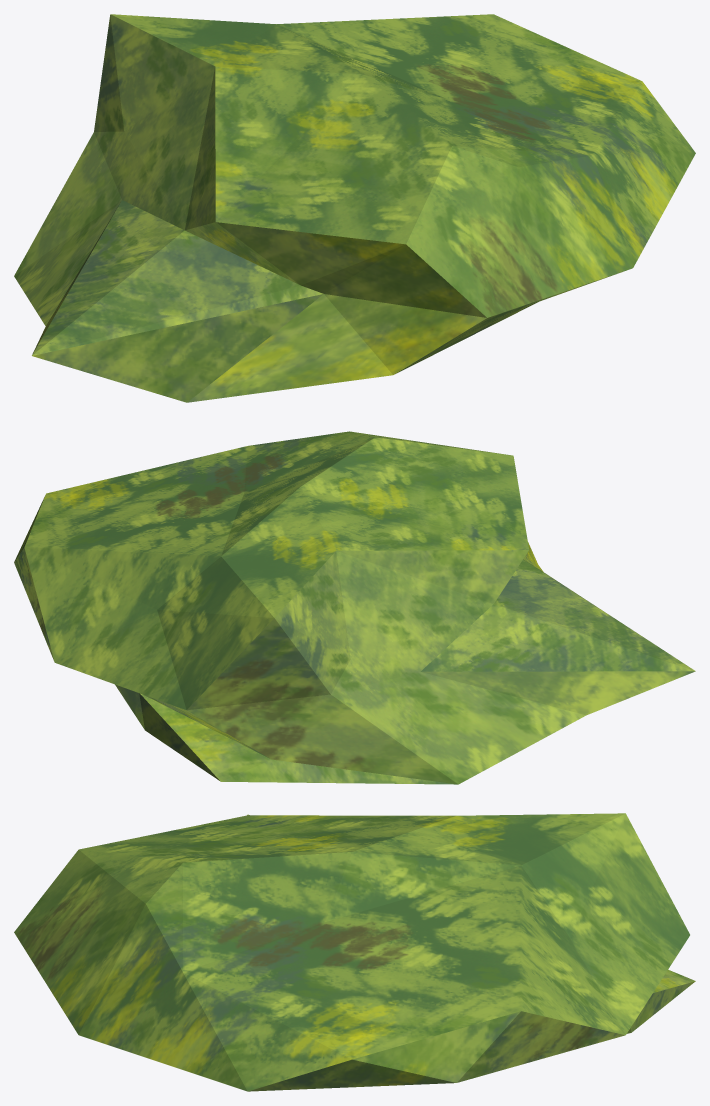
The model's file is foliage2.glb.
The picture shows the model from 3 angles, top to bottom: view 1: azimuth 30°, elevation 25°; view 2: azimuth 150°, elevation 25°; view 3: azimuth 270°, elevation 25°; orthographic projection. The views are drawn at different scales.
Visible parts, largest first — view 1: foliage2; view 2: foliage2; view 3: foliage2.
Boxes of the visible parts, box(x1,y1,x2,y2) form: foliage2: box(14, 14, 695, 402); foliage2: box(14, 431, 695, 784); foliage2: box(14, 813, 695, 1091).
Bounding box in the file's own units: 19.37 × 5.61 × 17.61.
1 material, 1 textured.
